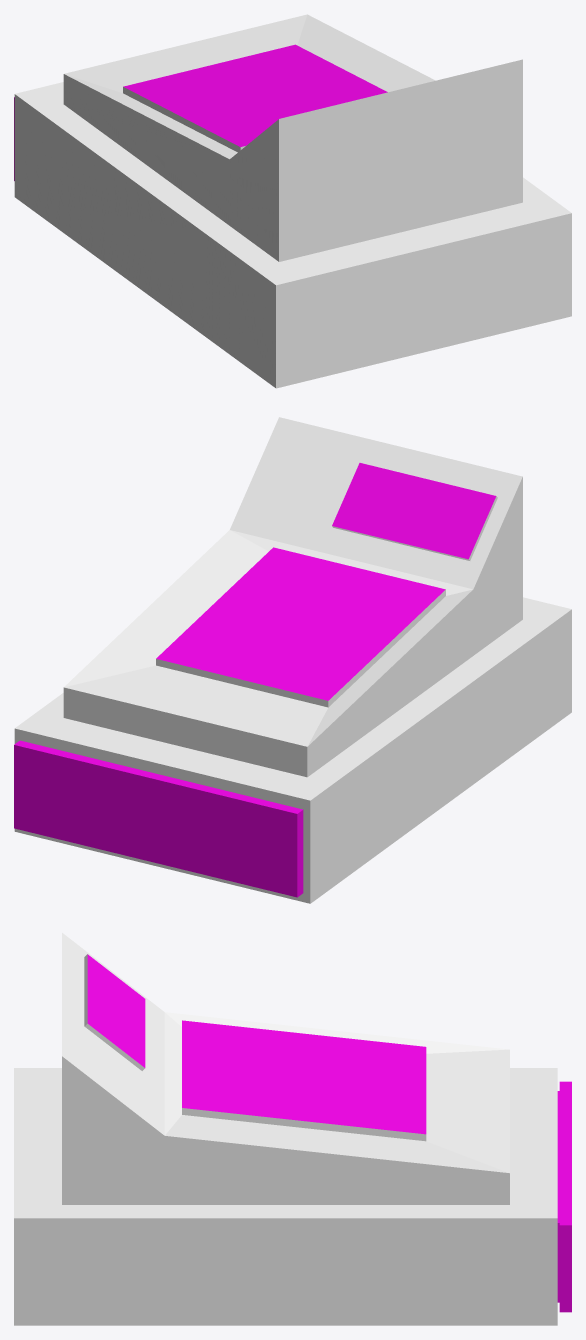
File: CAJA REGISTRADORA.fbx
3 renders of one model, top to bottom at view 1: azimuth 30°, elevation 25°; view 2: azimuth 150°, elevation 25°; view 3: azimuth 270°, elevation 25°, orthographic. The views are drawn at different scales.
Parts seen in each view (by area): view 1: CAJA; view 2: CAJA, CAJA__GABETA; view 3: CAJA, CAJA__GABETA.
Part boxes in pixels (x1,y1,x2,y2): CAJA: (14,14,571,388); CAJA: (14,417,571,903); CAJA__GABETA: (14,740,303,897); CAJA: (14,933,557,1325); CAJA__GABETA: (557,1081,571,1312).
Bounding box in the file's own units: 186 × 148 × 292.
